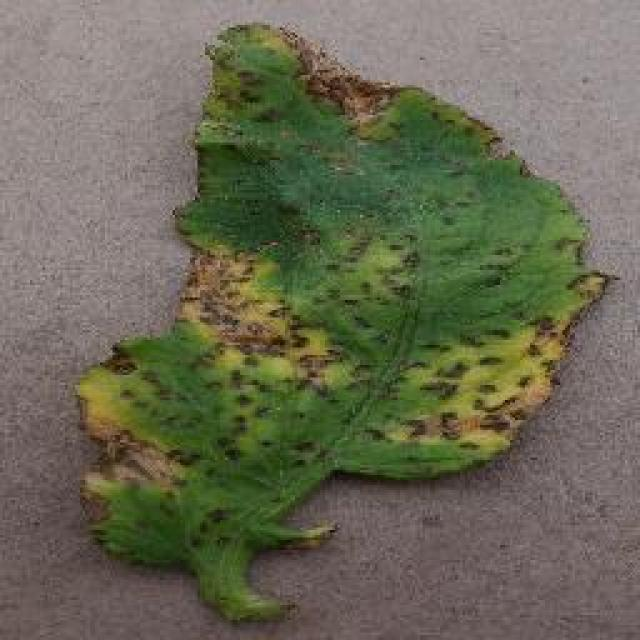Tomato bacterial spot leaf: (75, 18, 622, 580)
